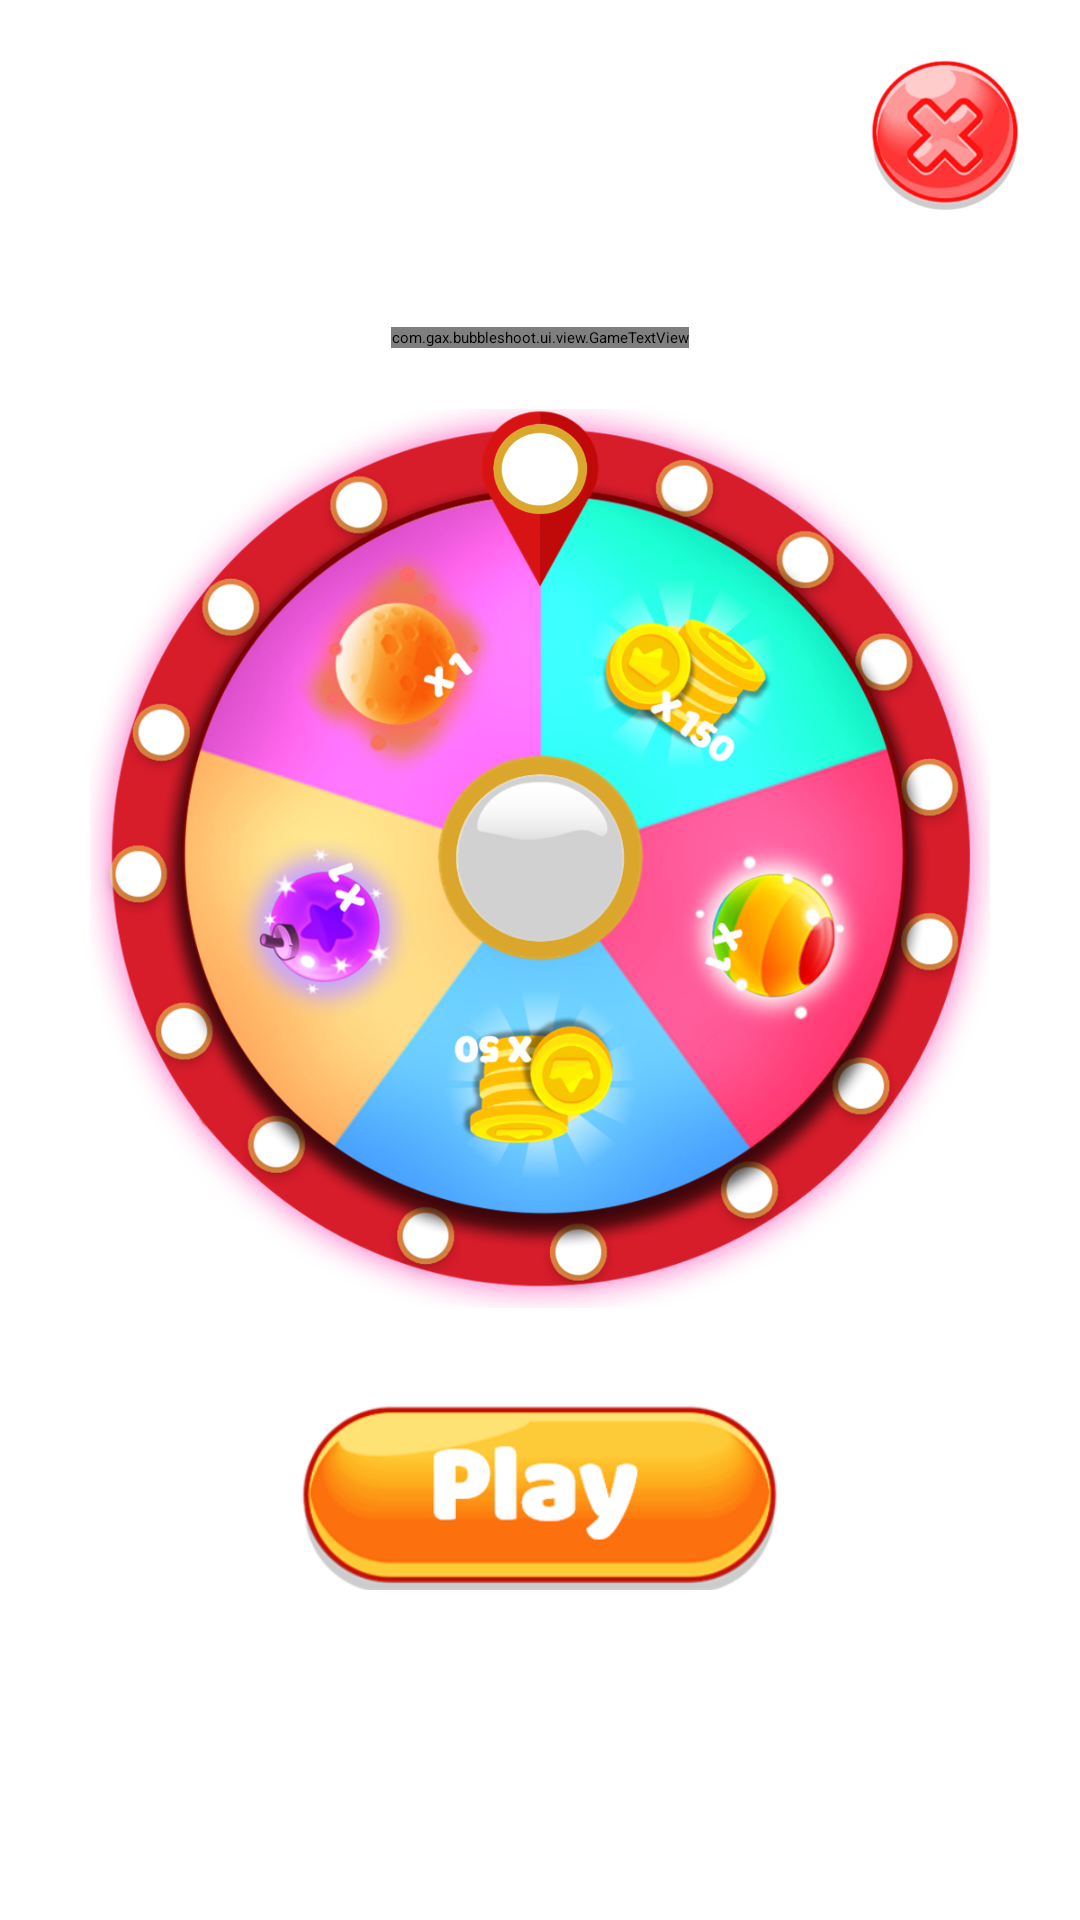

Point at icon controls on the screen. Image size 1080 × 1920, points as (x=x, y=y).
wheel axis: (x=540, y=858)
wheel pointer: (x=540, y=498)
